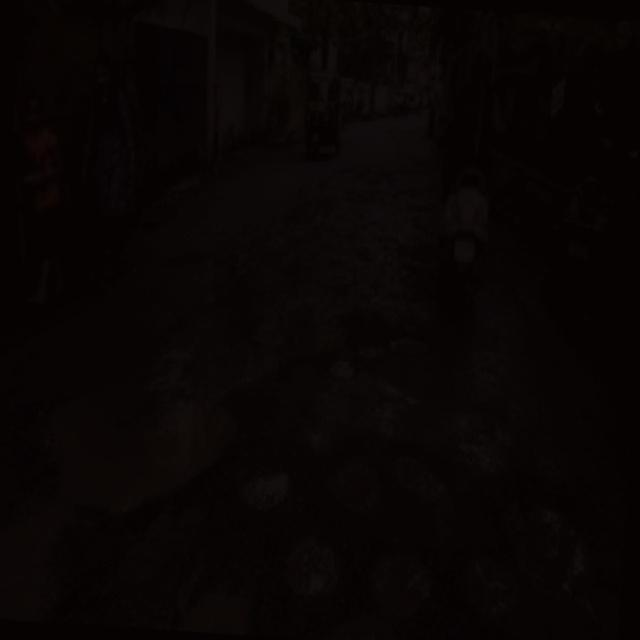Pothole: (0, 330, 250, 640), (466, 496, 600, 634), (309, 338, 436, 431), (361, 532, 445, 638), (151, 574, 279, 640), (386, 441, 462, 511), (268, 536, 348, 600), (324, 456, 388, 517), (234, 462, 293, 510)
